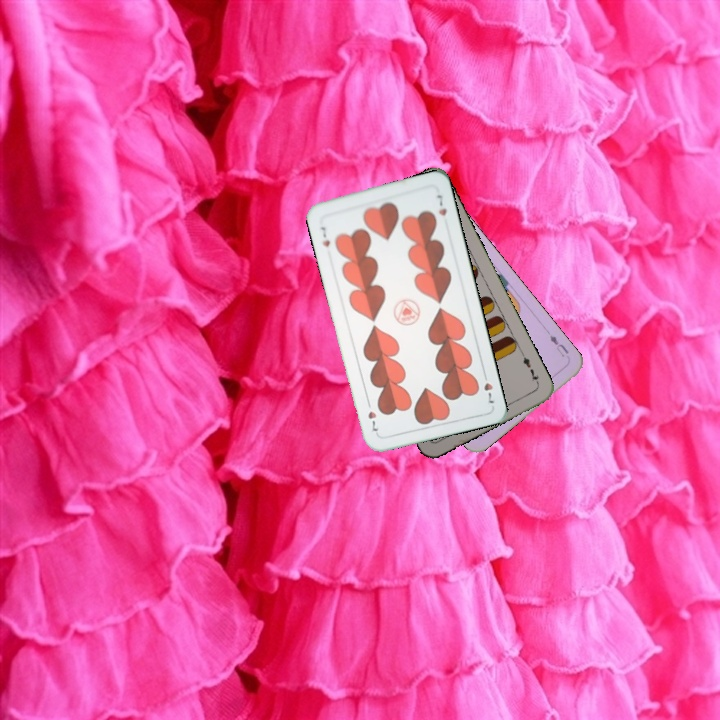E7: (518, 349, 542, 387)
EU: (545, 331, 571, 360)
H7: (479, 368, 497, 406), (316, 222, 332, 249)
